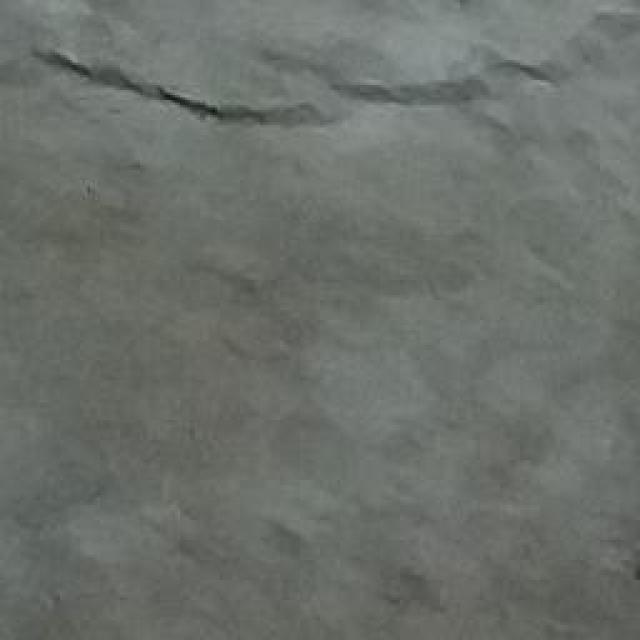Transverse: (0, 0, 640, 135)
